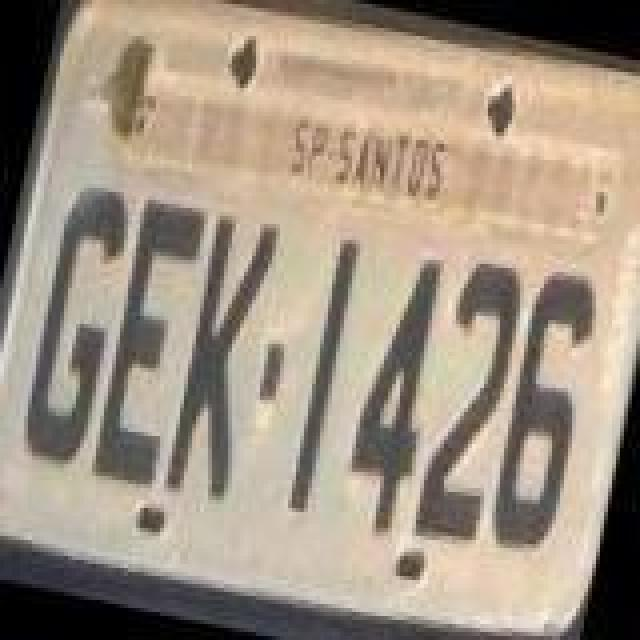1: (282, 234, 366, 518)
2: (404, 252, 532, 548)
4: (336, 246, 456, 538)
6: (480, 264, 608, 560)
E: (82, 192, 214, 496)
G: (12, 176, 140, 472)
K: (160, 206, 288, 506)
